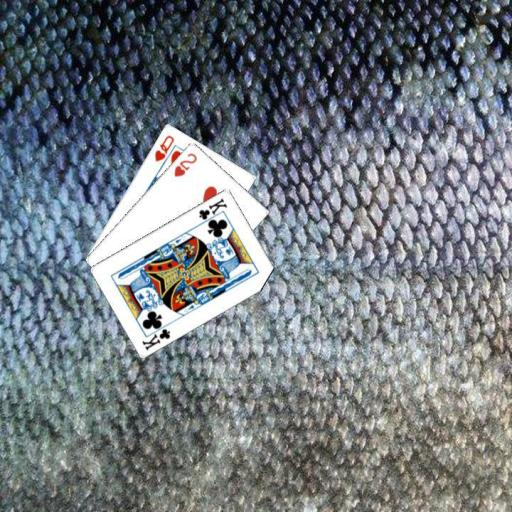2H: (171, 149, 198, 178)
KC: (139, 320, 172, 352), (196, 195, 229, 226)
QH: (152, 131, 176, 163)
